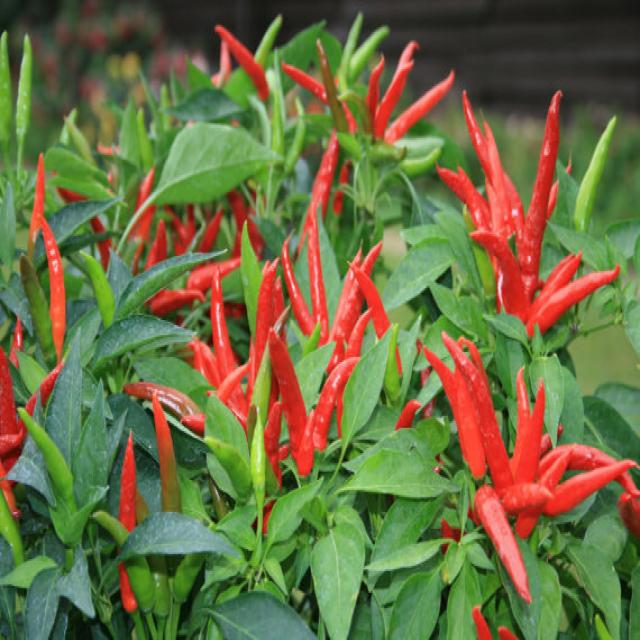Chili: (524, 86, 565, 283), (532, 262, 623, 346), (386, 66, 460, 147), (476, 485, 528, 599), (270, 331, 306, 464), (216, 20, 271, 104), (41, 205, 69, 359), (279, 220, 312, 344), (208, 267, 240, 388), (308, 205, 330, 339)
